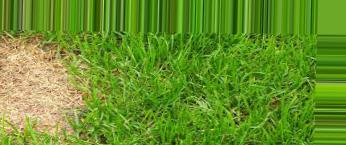patch: (8, 48, 75, 125)
